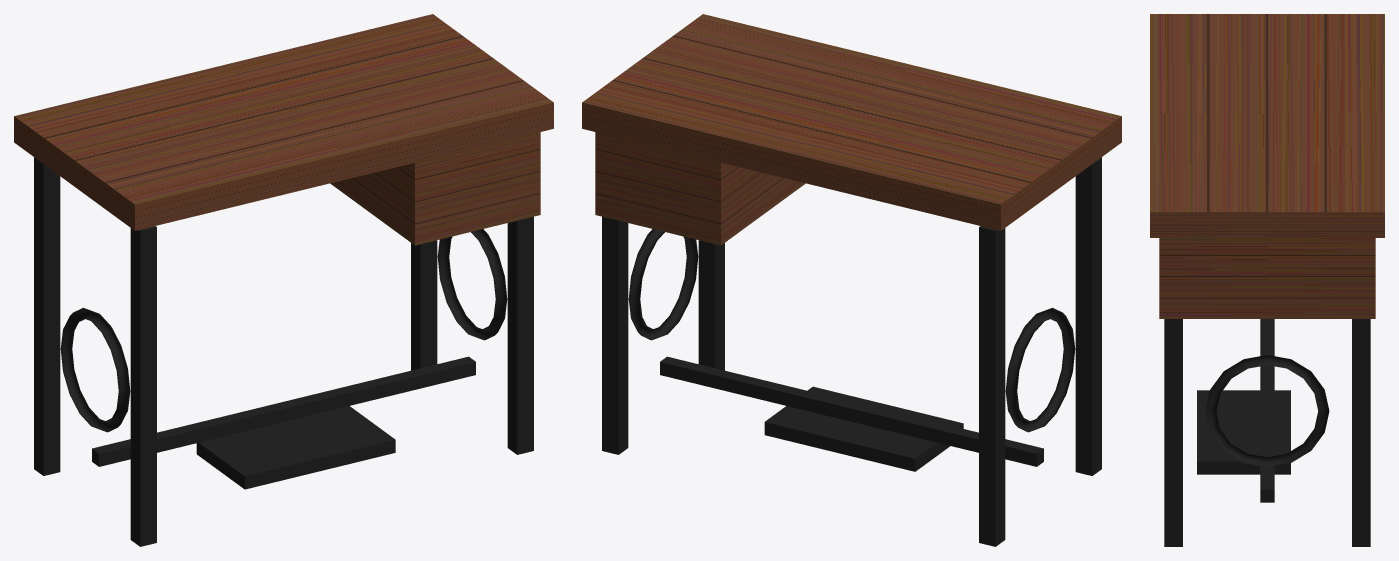
The model's file is sewing_table.glb.
3 renders of one model, left to right at view 1: azimuth 30°, elevation 25°; view 2: azimuth 150°, elevation 25°; view 3: azimuth 270°, elevation 25°, orthographic. The views are drawn at different scales.
Visible parts, largest first — view 1: sewing_table; view 2: sewing_table; view 3: sewing_table.
Part boxes in pixels (x1,y1,x2,y2): sewing_table: [14, 14, 553, 546]; sewing_table: [582, 14, 1121, 546]; sewing_table: [1150, 14, 1384, 546].
Size of the model in its own units: 1 by 0.8 by 0.5.
Materials: 2 (1 with a texture image).
